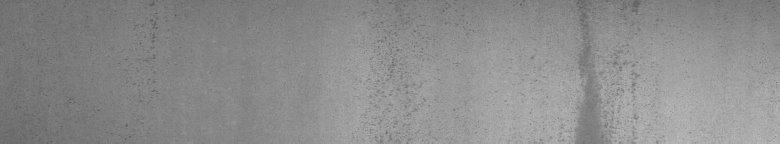ib: (364, 4, 451, 136)
